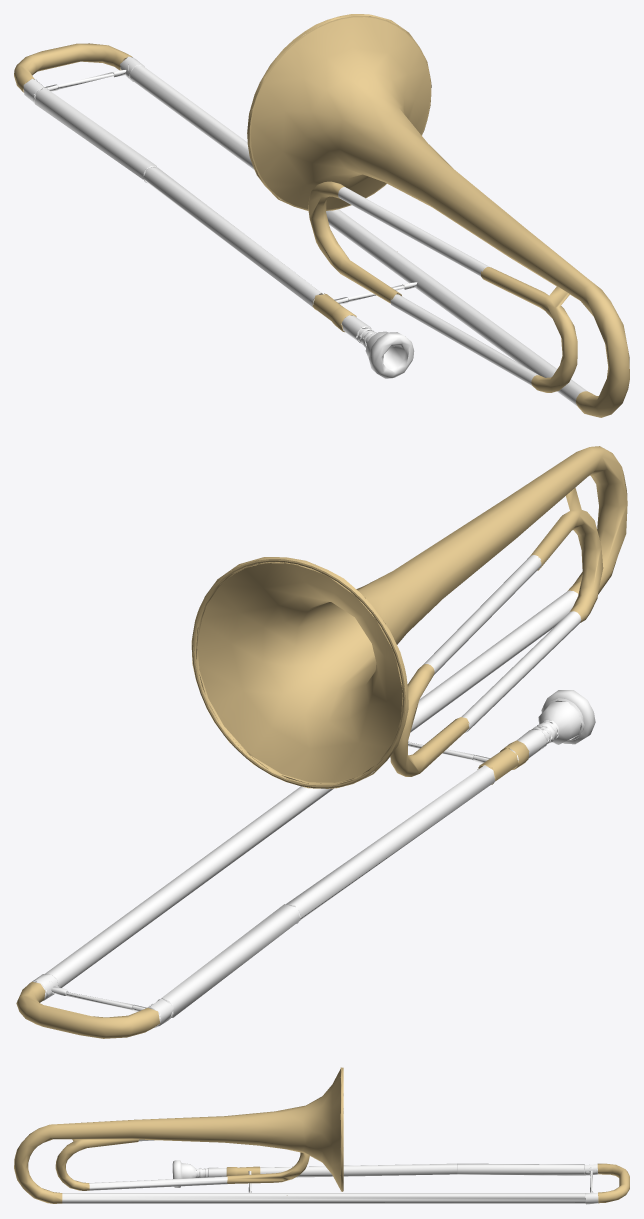
Rendered from trombone.glb.
3 views of the same model, one above another, from view 1: azimuth 30°, elevation 25°; view 2: azimuth 150°, elevation 25°; view 3: azimuth 270°, elevation 25° (orthographic). The views are drawn at different scales.
Visible parts, largest first — view 1: trombone; view 2: trombone; view 3: trombone.
Part boxes in pixels (x1,y1,x2,y2): trombone: (14,14,629,417); trombone: (16,446,627,1038); trombone: (14,1067,629,1204).
Size of the model in its own units: 0.876 by 0.9871 by 3.96.
